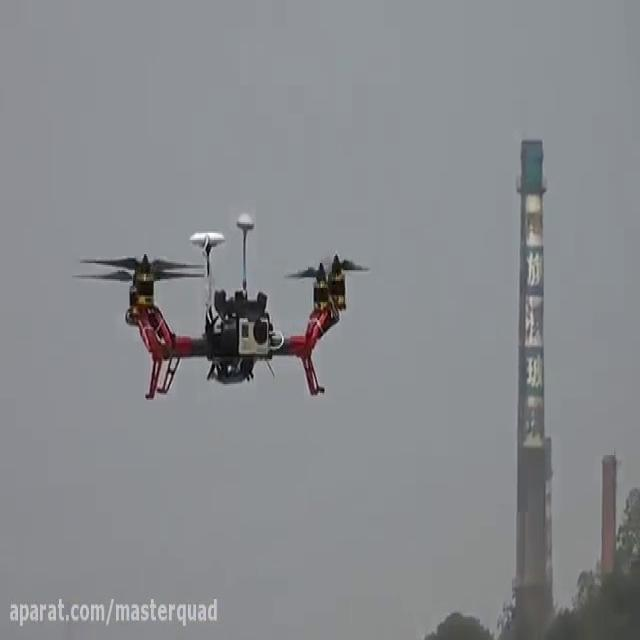drone: (70, 208, 370, 407)
